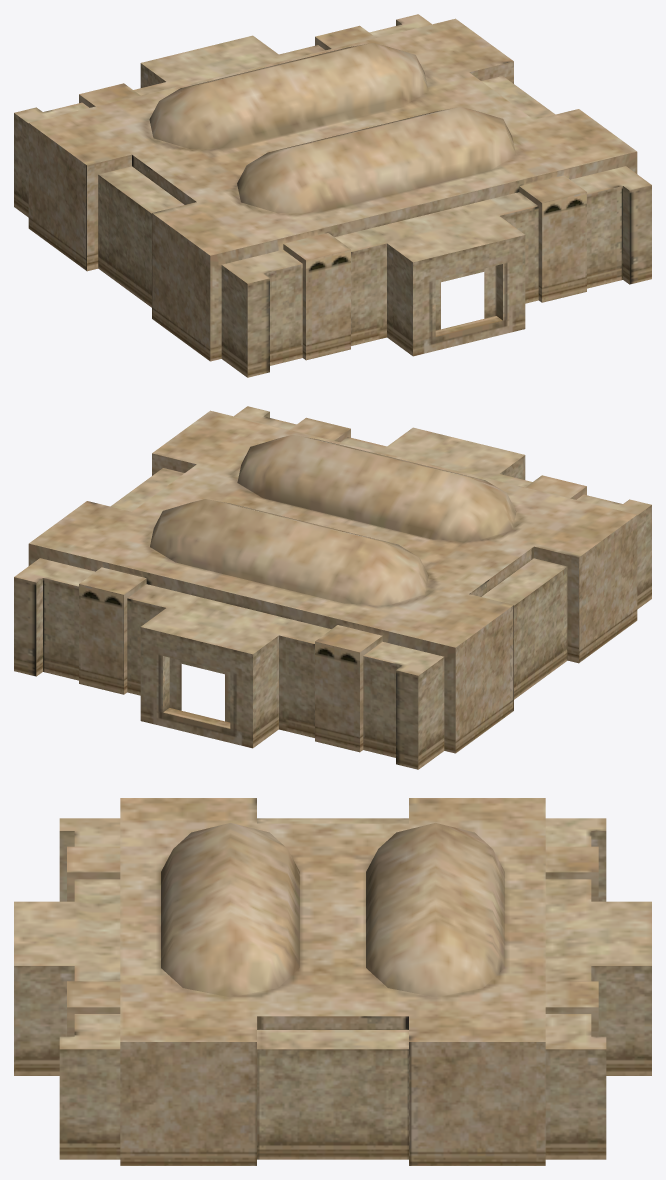
The model's file is mun_tato_hospital_s02_r0_mesh_l2.fbx.
3 renders of one model, top to bottom at view 1: azimuth 30°, elevation 25°; view 2: azimuth 150°, elevation 25°; view 3: azimuth 270°, elevation 25°, orthographic. The views are drawn at different scales.
Visible parts, largest first — view 1: mesh_node; view 2: mesh_node; view 3: mesh_node.
Part boxes in pixels (<box>): mesh_node: <box>14,14,651,377</box>; mesh_node: <box>14,406,651,769</box>; mesh_node: <box>14,798,651,1165</box>.
Bounding box in the file's own units: 38 × 12.56 × 42.
1 material, 1 textured.
